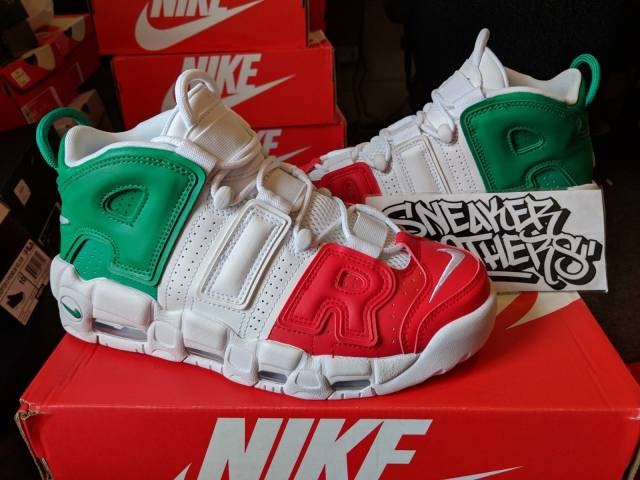Nike Air Uptempo '96 Italy: (27, 64, 506, 407), (253, 21, 619, 275)
